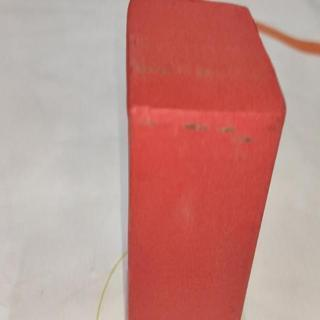redbox: (127, 0, 287, 320)
